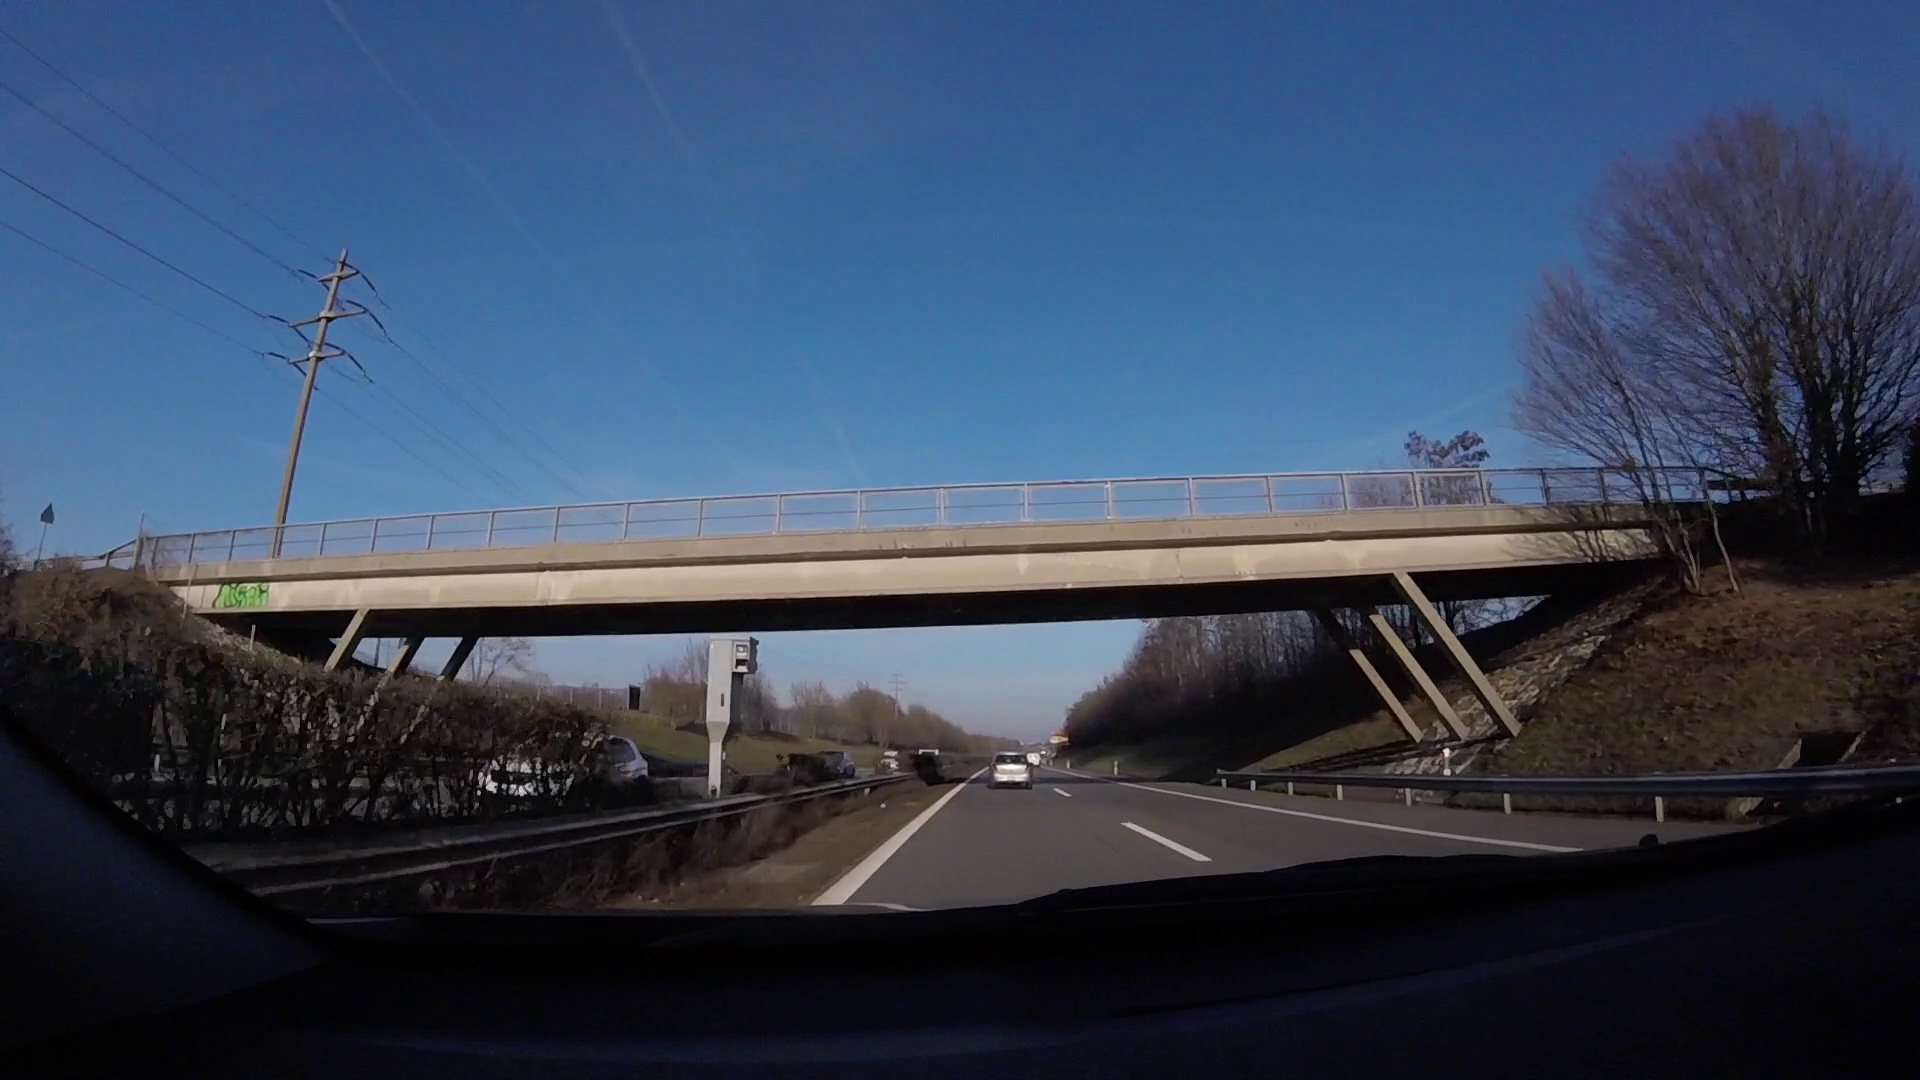radar: (707, 633, 760, 803)
